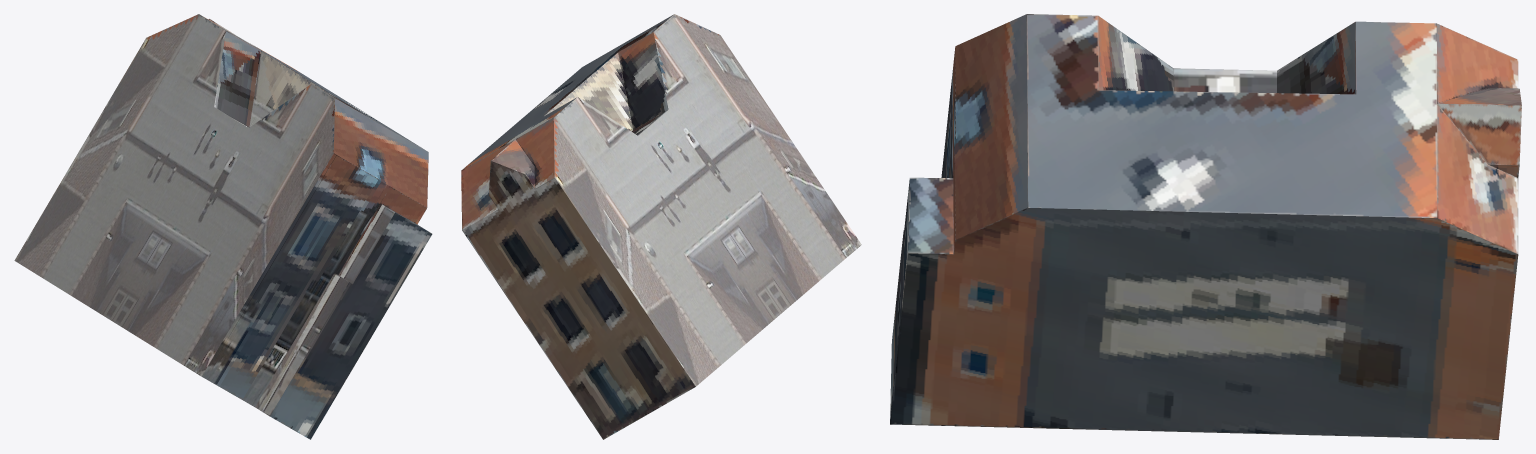
3 views of the same model, side by side, from view 1: azimuth 30°, elevation 25°; view 2: azimuth 150°, elevation 25°; view 3: azimuth 270°, elevation 25° (orthographic). The views are drawn at different scales.
Parts seen in each view (by area): view 1: BAG_0599100000670790 (×3); view 2: BAG_0599100000670790 (×3); view 3: BAG_0599100000670790 (×3).
Part boxes in pixels (x1,y1,x2,y2): BAG_0599100000670790 (×3): (14,14,432,439); BAG_0599100000670790 (×3): (461,14,861,439); BAG_0599100000670790 (×3): (890,14,1521,439).
Size of the model in its own units: 12.91 by 14.3 by 16.89.
3 materials, 3 textured.
